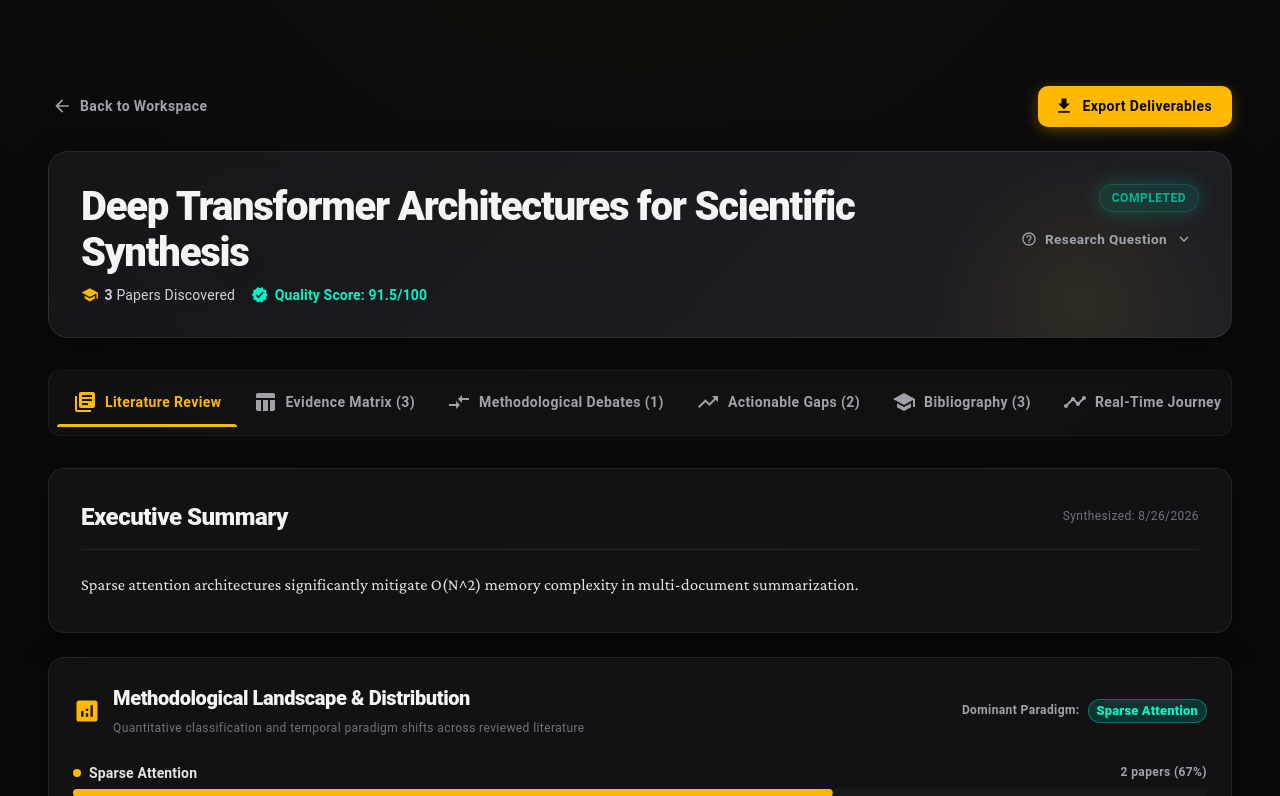
Test: ProjectDetailsPage Empirical Challenger Test Suite › 4. Full Report State Verification across all 6 Tabs › Tab 5 (Real-Time Journey): renders LangGraph 7-stage state machine, critic banner, auditor banner, and logs
Expected: the heading "Deep Transformer Architectures for Scientific Synthesis" is shown, [81,182,855,276]
Step 1. Click the tab "Real-Time Journey" → (1142, 403), box [1047,379,1237,427]
(page scrolled)
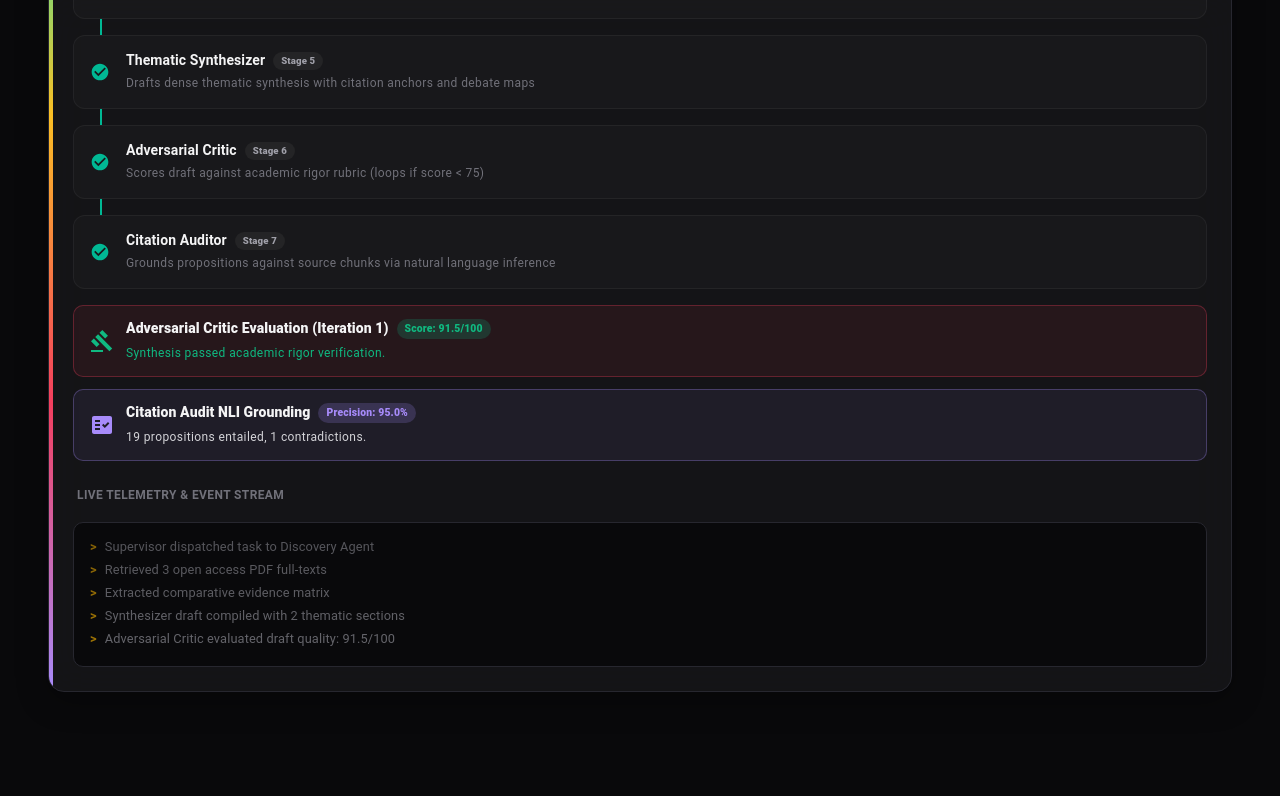
Expected: the heading "Thematic Synthesizer" is shown, [126,50,265,72]
Expected: the heading "Adversarial Critic" is shown, [126,140,237,162]
Expected: the heading "Citation Auditor" is shown, [126,230,227,252]
